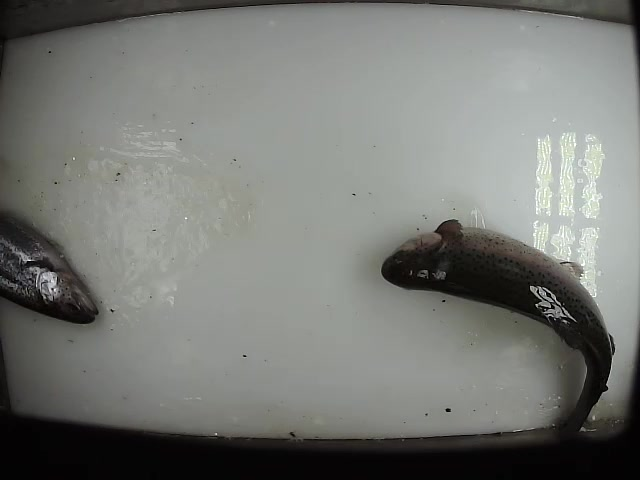fish: (378, 216, 618, 450), (1, 204, 100, 325)
